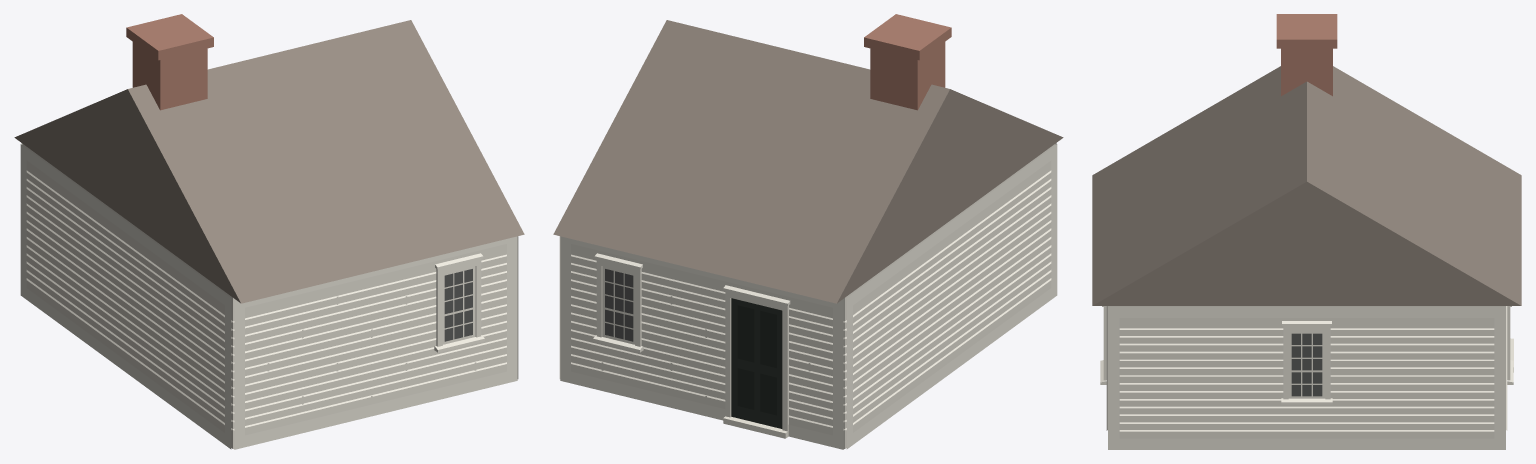
File: recon_1835_blk_randolph_market_d3_04__inferred_1835.glb
The picture shows the model from 3 angles, left to right: view 1: azimuth 30°, elevation 25°; view 2: azimuth 150°, elevation 25°; view 3: azimuth 270°, elevation 25°; orthographic projection. The views are drawn at different scales.
Parts seen in each view (by area): view 1: recon_1835_blk_randolph_market_d3_04__inferred_1835; view 2: recon_1835_blk_randolph_market_d3_04__inferred_1835; view 3: recon_1835_blk_randolph_market_d3_04__inferred_1835.
Part boxes in pixels (x1,y1,x2,y2): recon_1835_blk_randolph_market_d3_04__inferred_1835: (14, 14, 524, 449); recon_1835_blk_randolph_market_d3_04__inferred_1835: (553, 14, 1063, 449); recon_1835_blk_randolph_market_d3_04__inferred_1835: (1092, 14, 1521, 449).
Size of the model in its own units: 5.16 by 5.56 by 6.95.
